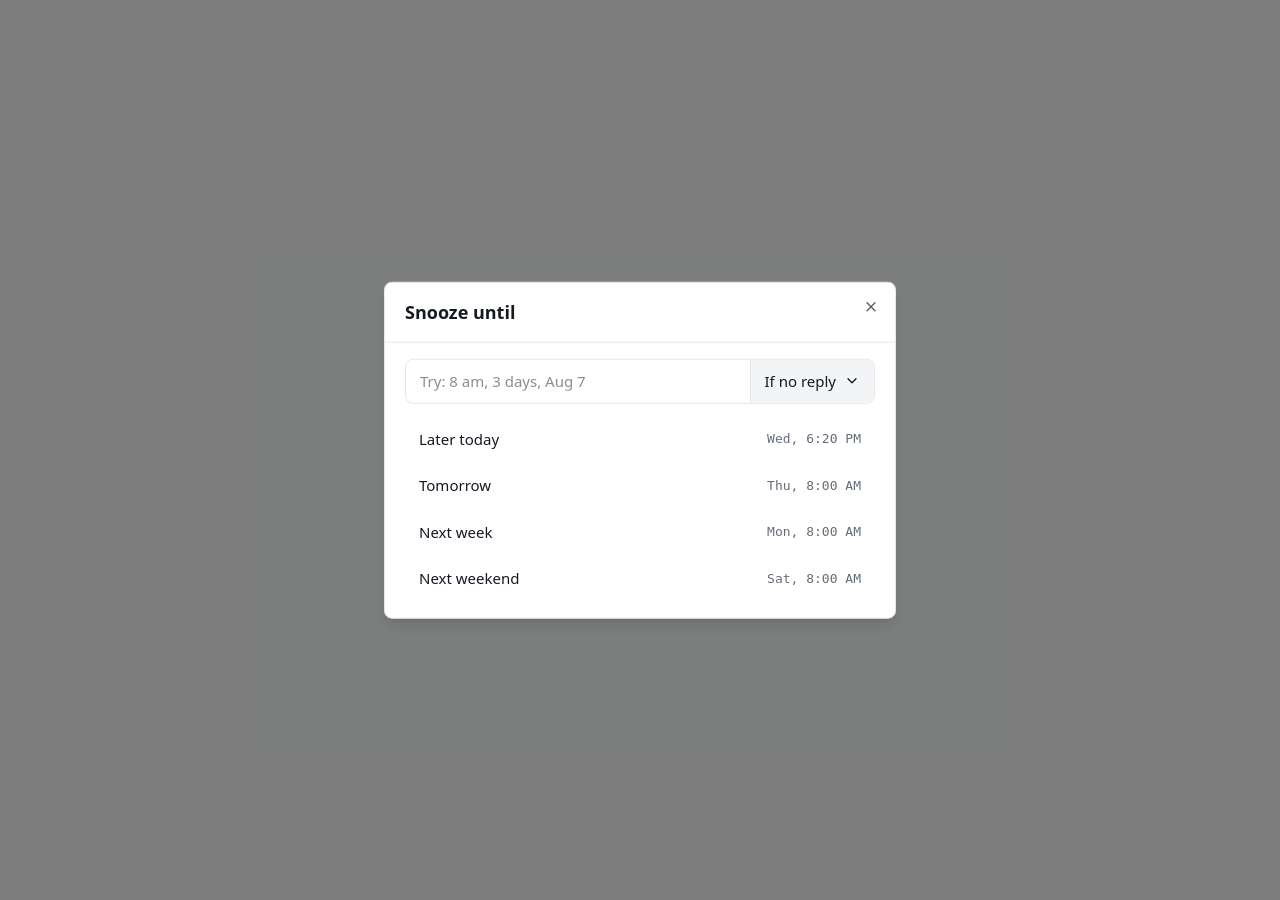
Test: choosing a moment › says so plainly when it cannot read the input
The image size is (1280, 900).
Step 1. Type "whenever" into the field named "When" → (578, 381), box [406,360,750,402]
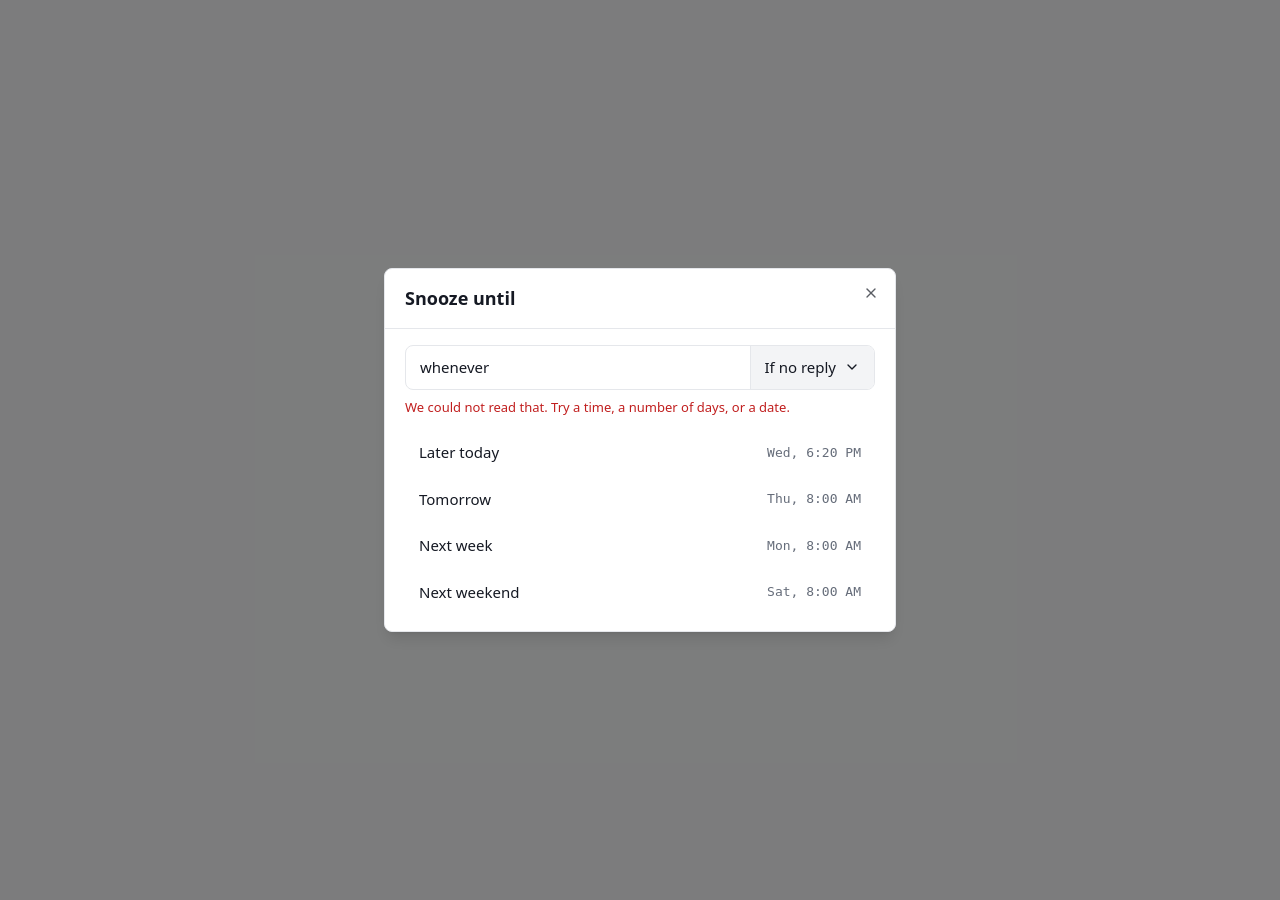
Expected: the text "could not read that" is shown, [405,398,790,416]
